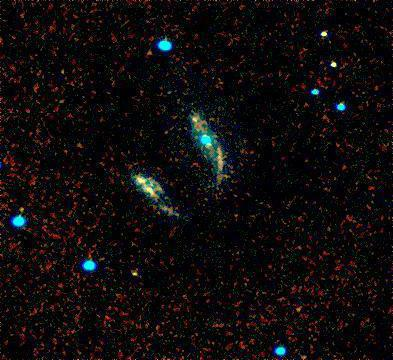star: (178, 106, 208, 136)
